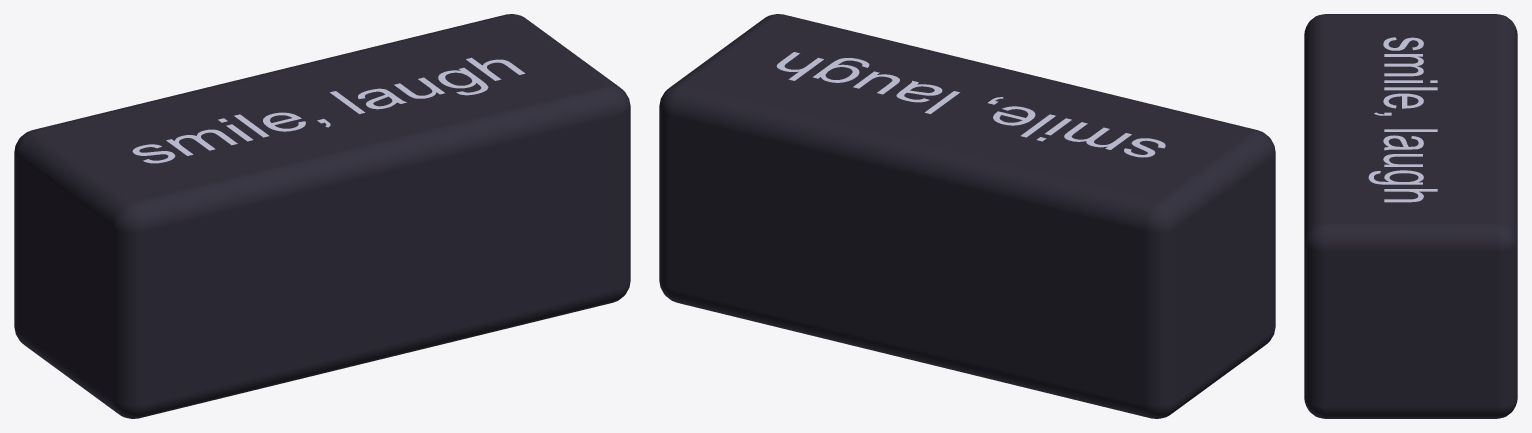
Rendered from smile.glb.
3 renders of one model, left to right at view 1: azimuth 30°, elevation 25°; view 2: azimuth 150°, elevation 25°; view 3: azimuth 270°, elevation 25°, orthographic. The views are drawn at different scales.
Visible parts, largest first — view 1: Cut, Extrude; view 2: Cut, Extrude; view 3: Cut, Extrude.
Boxes of the visible parts, x1=… form: Cut: x1=14, y1=14, x2=630, y2=418; Extrude: x1=132, y1=57, x2=525, y2=163; Cut: x1=659, y1=14, x2=1275, y2=418; Extrude: x1=776, y1=52, x2=1165, y2=157; Cut: x1=1304, y1=14, x2=1517, y2=418; Extrude: x1=1368, y1=37, x2=1437, y2=202.
Bounding box in the file's own units: 5 × 2 × 2.
